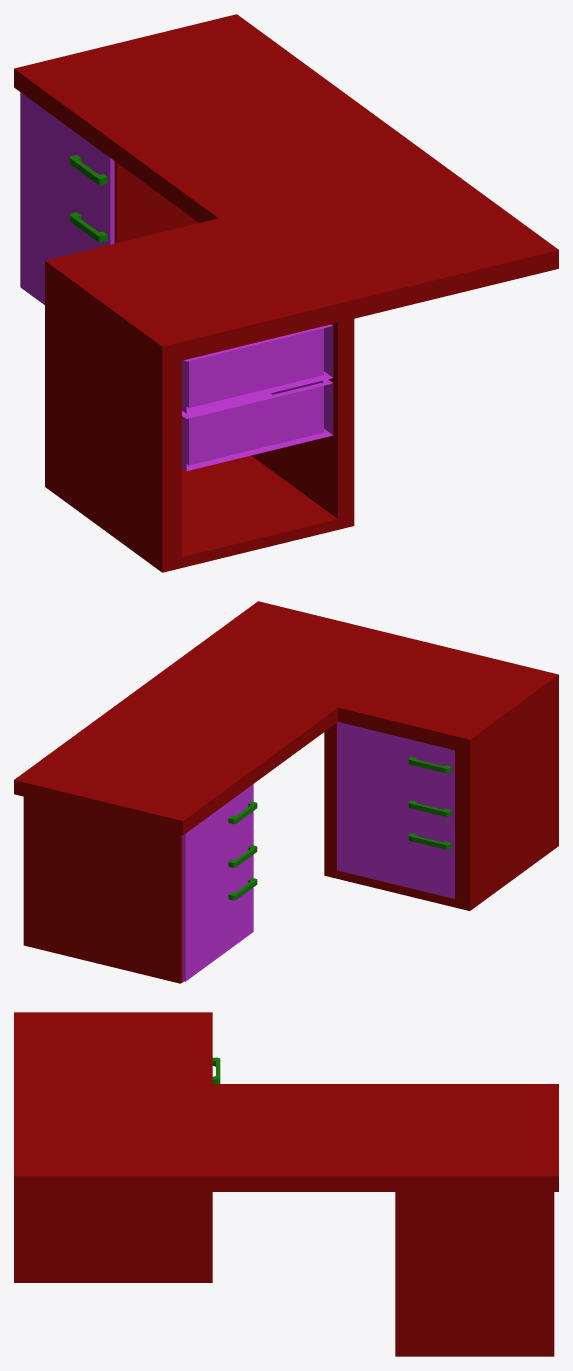
Rendered from aaaaa.fbx.
3 renders of one model, top to bottom at view 1: azimuth 30°, elevation 25°; view 2: azimuth 150°, elevation 25°; view 3: azimuth 270°, elevation 25°, orthographic. The views are drawn at different scales.
Parts seen in each view (by area): view 1: Bureau, Tir_04, Tir_03, Tir_00, Tir_02, Tir_01; view 2: Bureau, Tir_05, Tir_04, Tir_03, Tir_01, Tir_02, Tir_00; view 3: Bureau.
Part boxes in pixels (x1,y1,x2,y2): Bureau: (14,14,558,572); Tir_04: (182,379,333,471); Tir_03: (182,324,333,413); Tir_00: (20,92,114,213); Tir_02: (20,148,114,251); Tir_01: (20,205,82,304); Bureau: (14,601,558,983); Tir_05: (337,808,454,898); Tir_04: (337,765,454,836); Tir_03: (337,722,454,793); Tir_01: (182,870,257,981); Tir_02: (182,826,257,919); Tir_00: (182,784,257,875); Bureau: (14,1012,558,1356).
Bounding box in the file's own units: 147 × 80.33 × 207.
